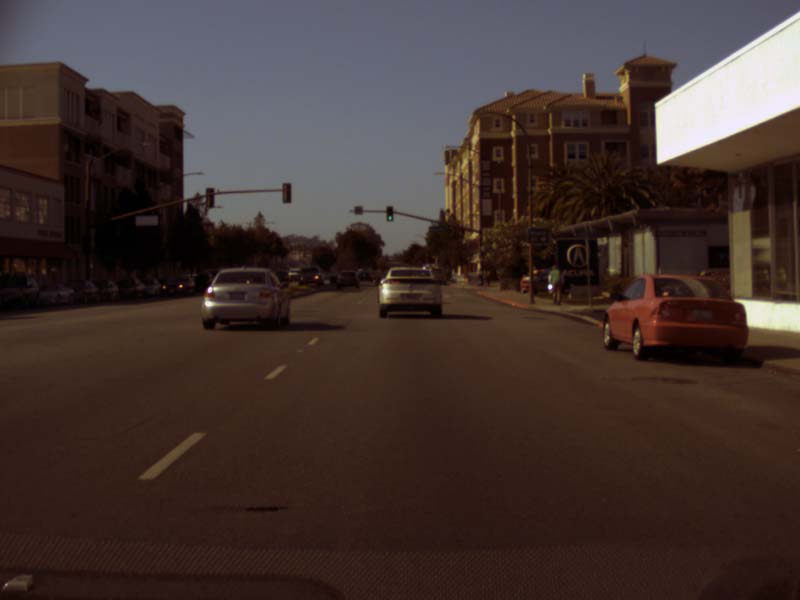Green: (386, 206, 392, 221)
